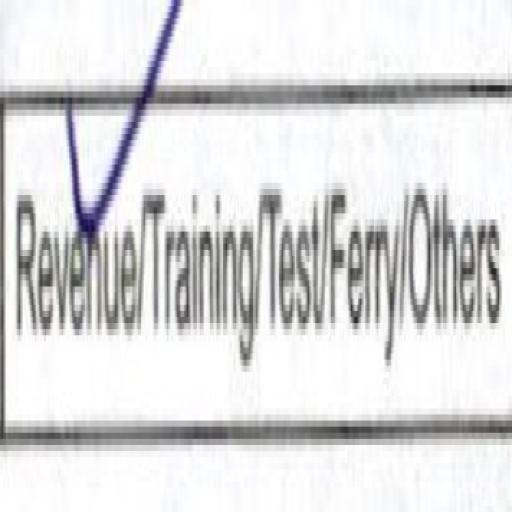check: (1, 3, 142, 476)
